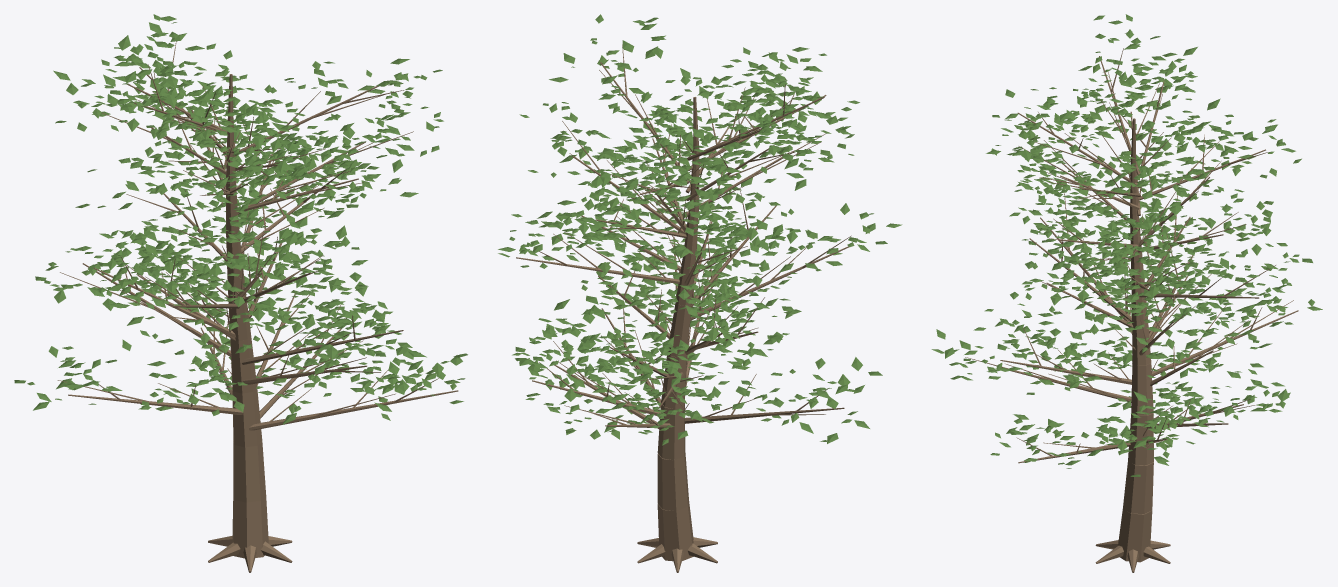
File: oak_7.glb
The picture shows the model from 3 angles, left to right: view 1: azimuth 30°, elevation 25°; view 2: azimuth 150°, elevation 25°; view 3: azimuth 270°, elevation 25°; orthographic projection. The views are drawn at different scales.
Visible parts, largest first — view 1: oak_7; view 2: oak_7; view 3: oak_7.
Boxes of the visible parts, x1,y1,x2,y2 form: oak_7: [14, 14, 467, 572]; oak_7: [498, 14, 902, 572]; oak_7: [931, 14, 1322, 572].
Size of the model in its own units: 11.21 by 15.07 by 11.06.
